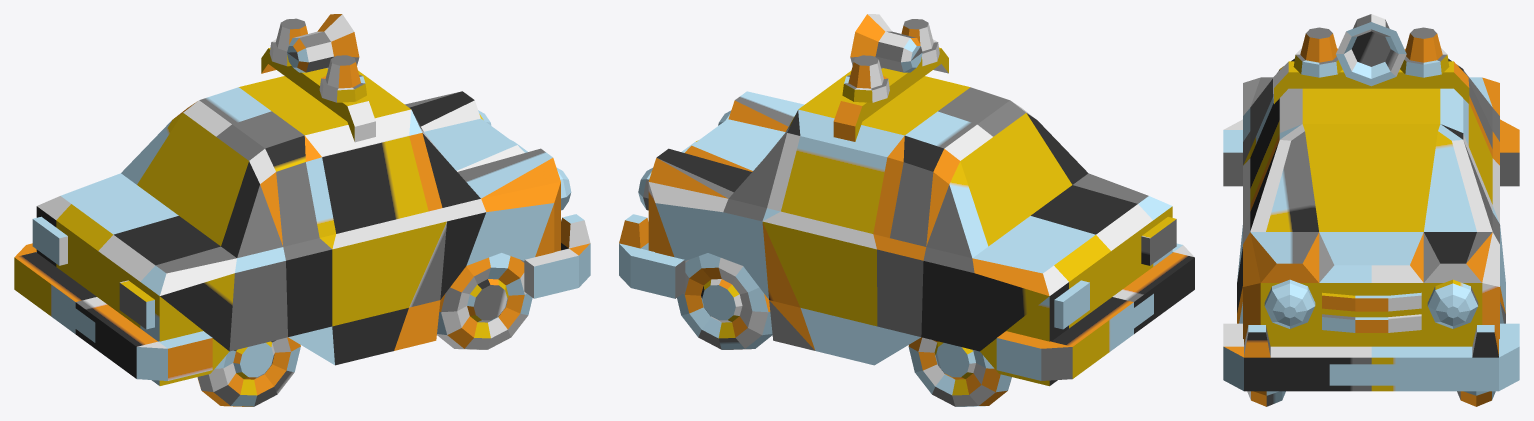
3 views of the same model, side by side, from view 1: azimuth 30°, elevation 25°; view 2: azimuth 150°, elevation 25°; view 3: azimuth 270°, elevation 25° (orthographic). The views are drawn at different scales.
Visible parts, largest first — view 1: PUSHILIN_Police_car_Cube.006; view 2: PUSHILIN_Police_car_Cube.006; view 3: PUSHILIN_Police_car_Cube.006.
Boxes of the visible parts, <box> form: PUSHILIN_Police_car_Cube.006: <box>14,14,590,406</box>; PUSHILIN_Police_car_Cube.006: <box>619,14,1194,406</box>; PUSHILIN_Police_car_Cube.006: <box>1223,14,1519,406</box>.
Bounding box in the file's own units: 2.35 × 1.58 × 1.27.
